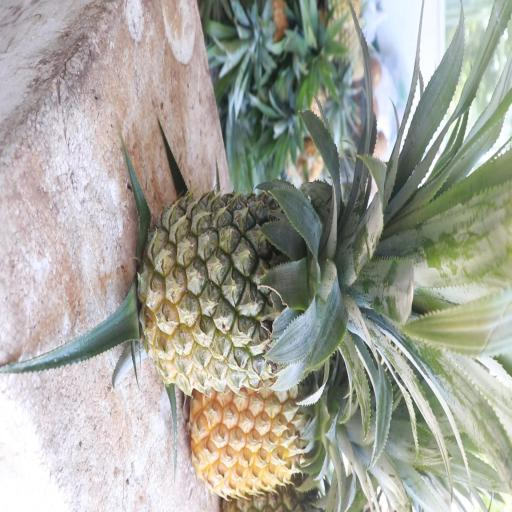------------------------------: (144, 186, 357, 388)
Pineapple - v8 v1: (190, 376, 321, 491)
